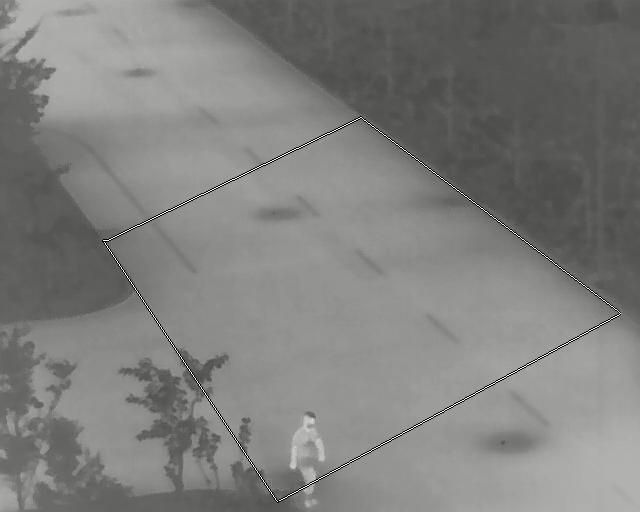person: (288, 411, 324, 510)
